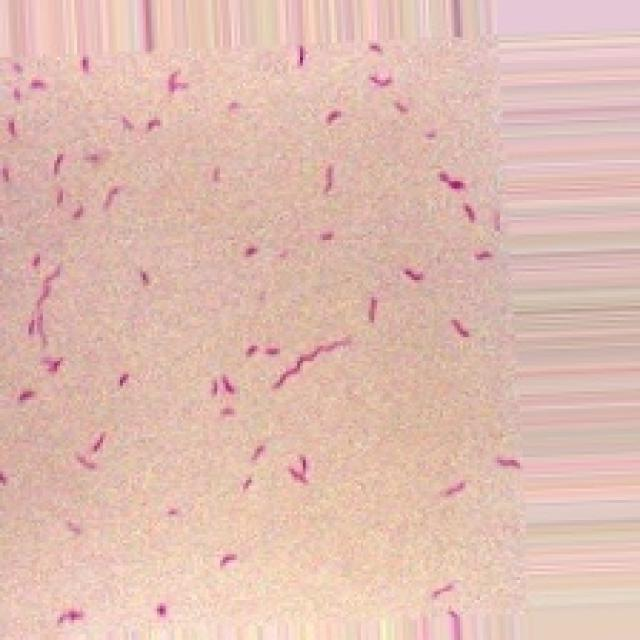Spiral_bacteria: (0, 34, 529, 637)
